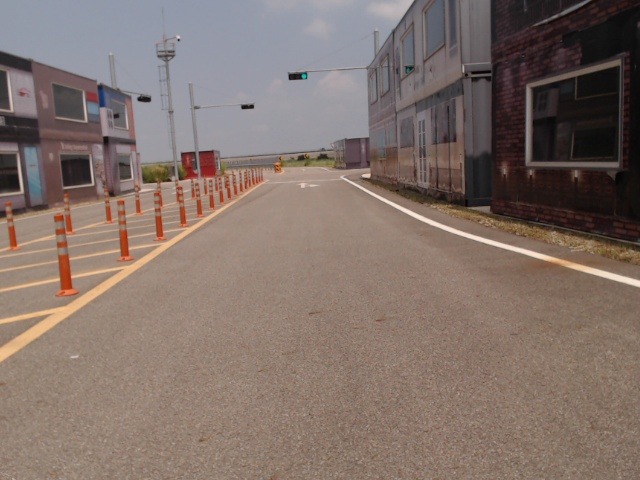green_3: (288, 73, 307, 80)
